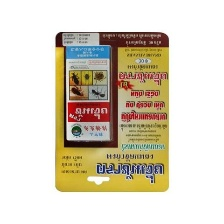book: (52, 30, 172, 194)
insecticide: (62, 42, 114, 143)
